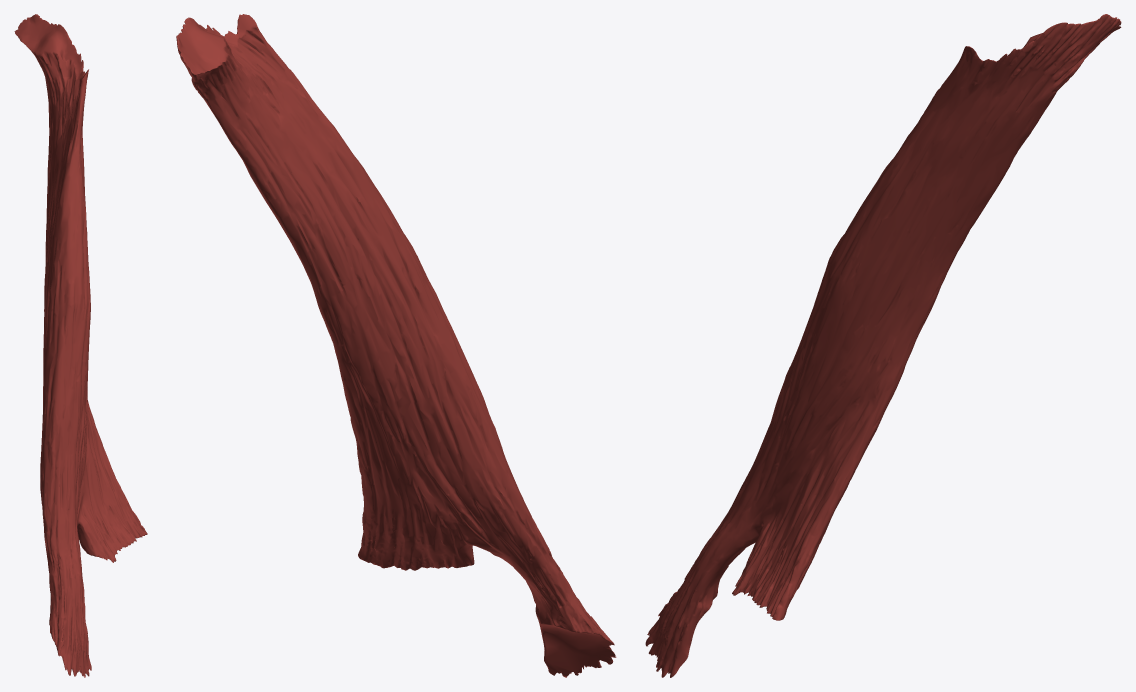
Rendered from explorar-sternocleidomastoid.glb.
3 views of the same model, side by side, from view 1: azimuth 30°, elevation 25°; view 2: azimuth 150°, elevation 25°; view 3: azimuth 270°, elevation 25° (orthographic). The views are drawn at different scales.
Visible parts, largest first — view 1: sternocleidomastoid__base, sternocleidomastoid__cabeza_esternal, sternocleidomastoid__cabeza_clavicular; view 2: sternocleidomastoid__base, sternocleidomastoid__cabeza_esternal, sternocleidomastoid__cabeza_clavicular; view 3: sternocleidomastoid__base, sternocleidomastoid__cabeza_esternal, sternocleidomastoid__cabeza_clavicular.
Boxes of the visible parts, x1,y1,x2,y2 form: sternocleidomastoid__base: [14, 14, 127, 542]; sternocleidomastoid__cabeza_esternal: [44, 531, 91, 677]; sternocleidomastoid__cabeza_clavicular: [77, 499, 147, 562]; sternocleidomastoid__base: [176, 14, 541, 545]; sternocleidomastoid__cabeza_esternal: [465, 533, 616, 677]; sternocleidomastoid__cabeza_clavicular: [358, 522, 474, 570]; sternocleidomastoid__base: [728, 14, 1121, 571]; sternocleidomastoid__cabeza_esternal: [645, 504, 761, 677]; sternocleidomastoid__cabeza_clavicular: [732, 523, 813, 620].
Bounding box in the file's own units: 0.0558 × 0.1875 × 0.1099.
